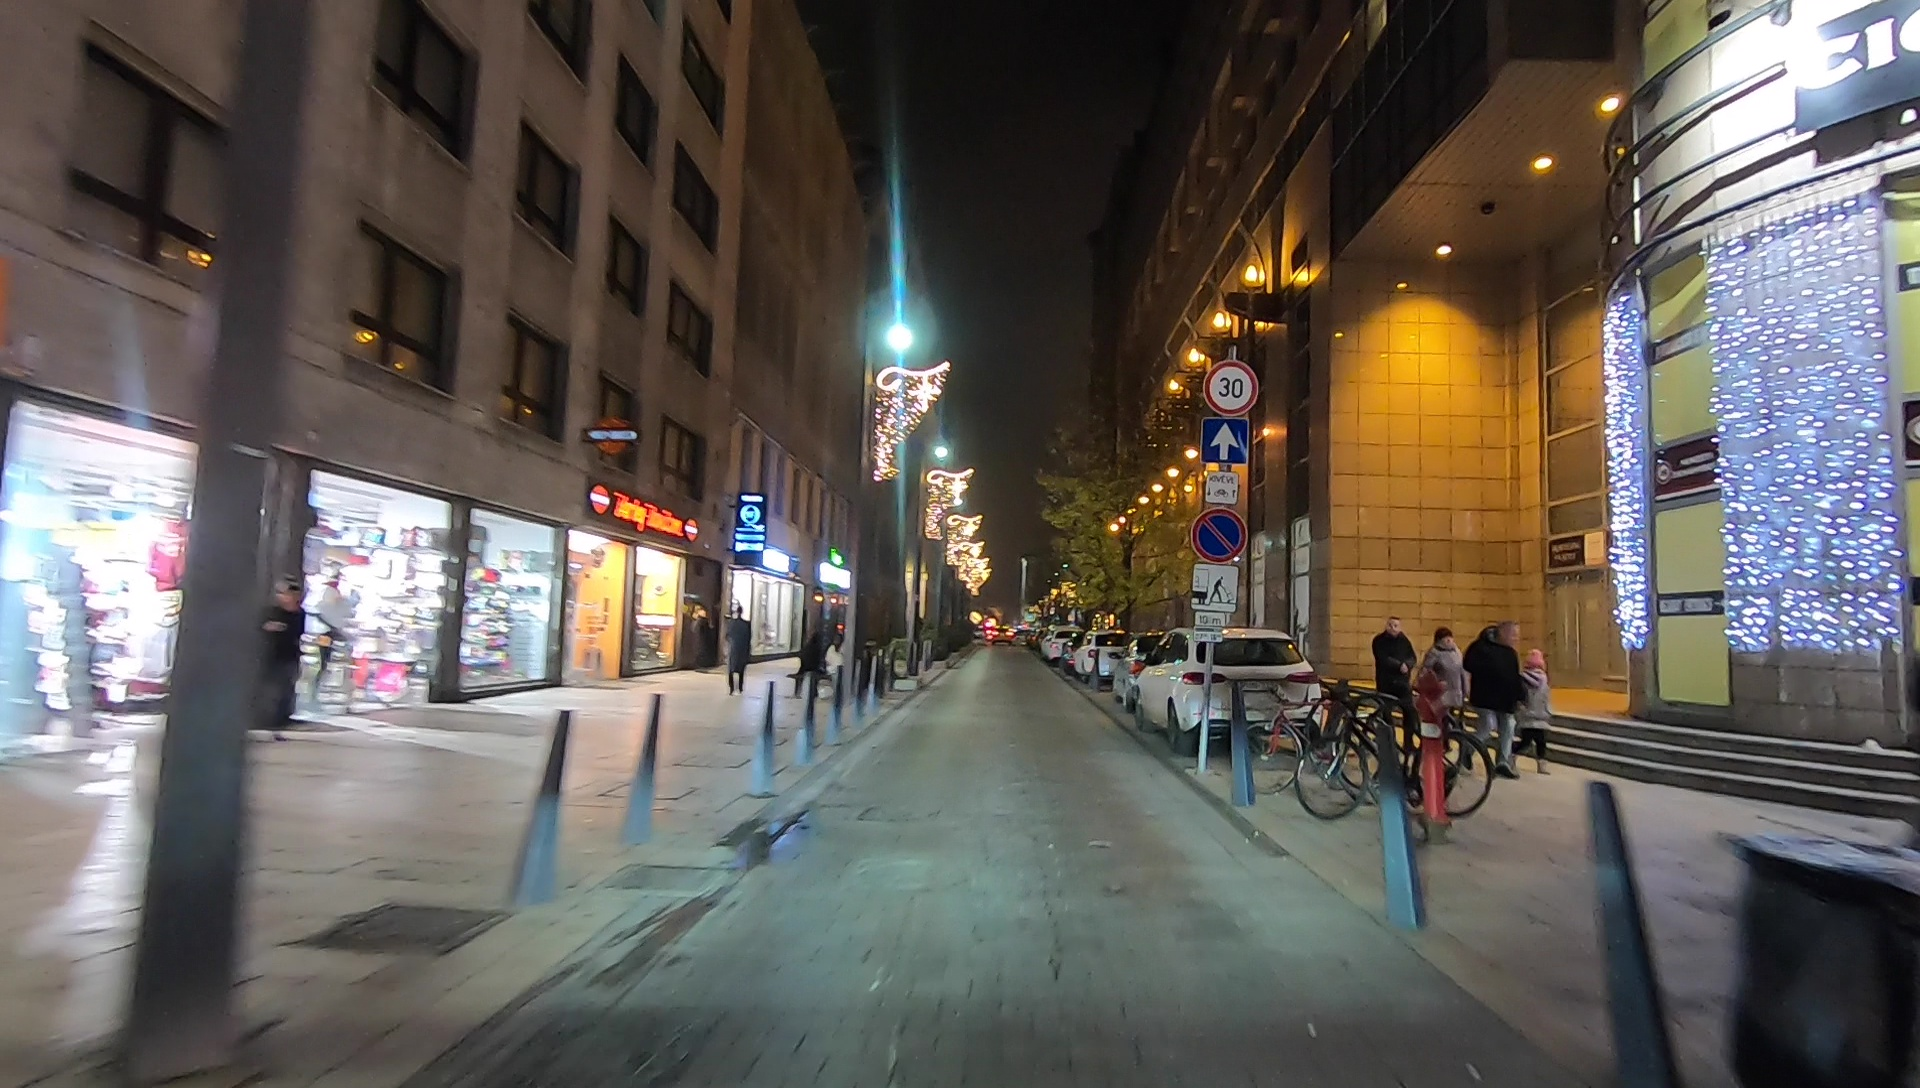person: (1469, 619, 1519, 774), (265, 578, 308, 728), (1419, 630, 1465, 756), (1371, 619, 1414, 734), (1526, 650, 1552, 776), (725, 606, 749, 691)
